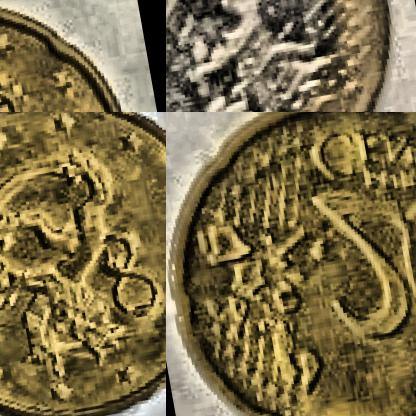coin: (166, 112, 415, 415), (0, 112, 165, 415), (166, 0, 415, 111), (0, 0, 165, 111)
